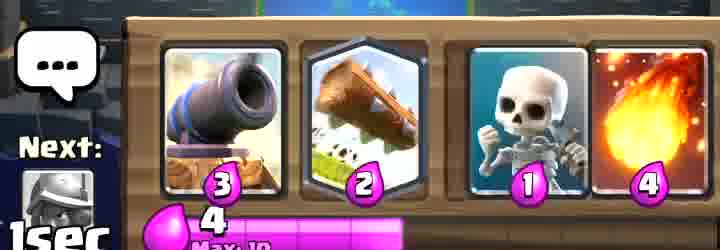cannon: (171, 51, 283, 199)
fireball: (596, 47, 709, 193)
log: (310, 44, 423, 191)
